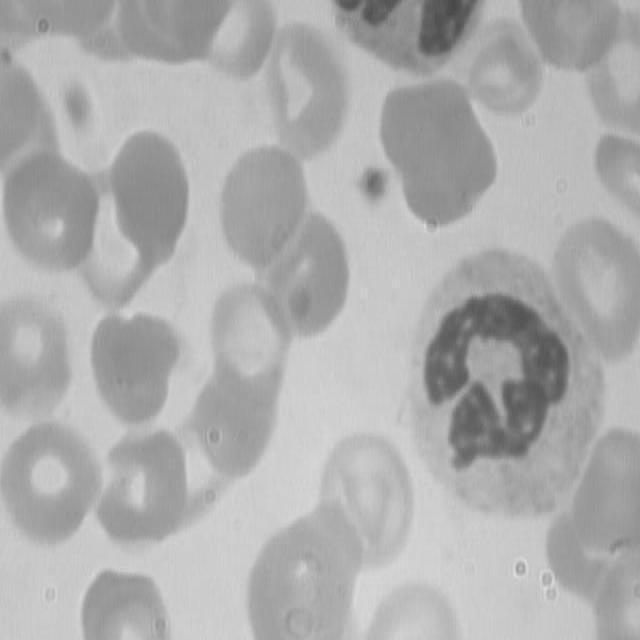Platelets: (354, 161, 395, 211)
RBC: (378, 72, 502, 236), (315, 424, 428, 577), (0, 412, 109, 553), (541, 211, 639, 364), (260, 19, 364, 162), (248, 205, 350, 344), (93, 423, 195, 553), (1, 143, 101, 269), (84, 304, 177, 431), (106, 128, 196, 252), (215, 147, 309, 265), (0, 282, 81, 414), (75, 562, 175, 640), (460, 21, 539, 116)
WBC: (398, 245, 623, 531)
